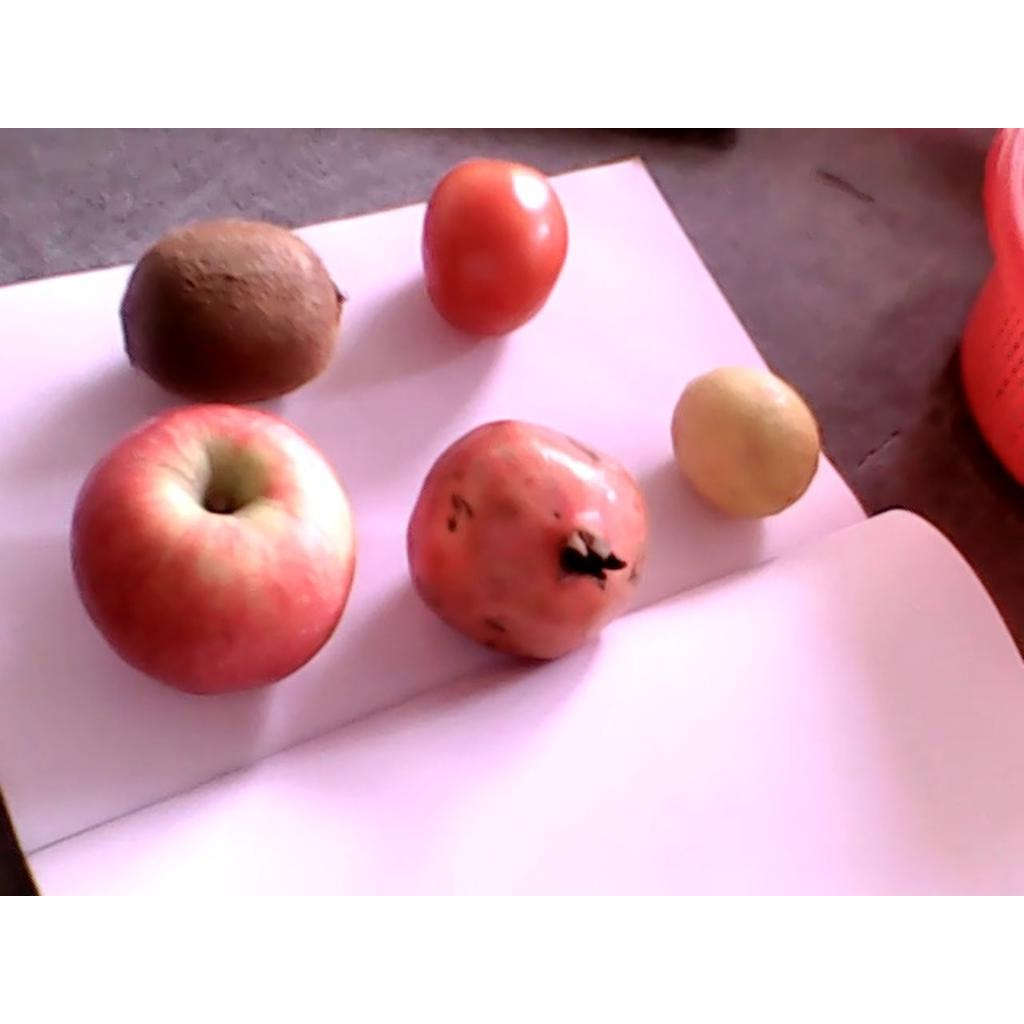apple: (70, 404, 356, 695)
kiwi: (120, 219, 347, 406)
lemon: (672, 365, 820, 521)
pomegranate: (407, 421, 651, 657)
tomato: (420, 158, 568, 337)
